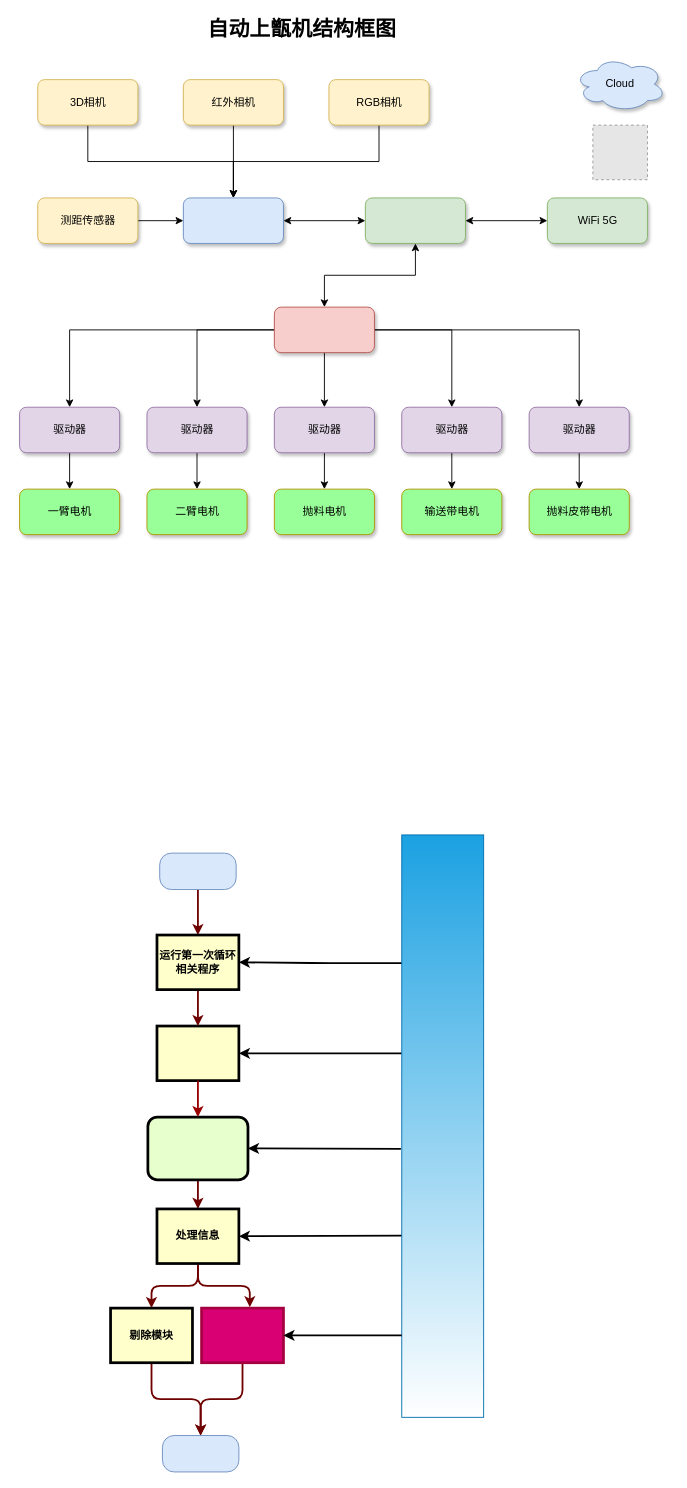
Some shapes in this 687 by 1488 pixel diagram are drawn without their labels. Grey dashed boxes stand in for pictures. Here are the shapes that lost their labels. From the top down, the centre of each, then its label:
pixel 234 221: 工控机
pixel 416 221: 交换机
pixel 325 331: PLC
pixel 197 871: 开始
pixel 197 1053: 输入处理
pixel 442 1125: 配 置 中 心
pixel 197 1148: 信息池 存储信息流
pixel 242 1335: 异常处理
pixel 200 1453: 结束
